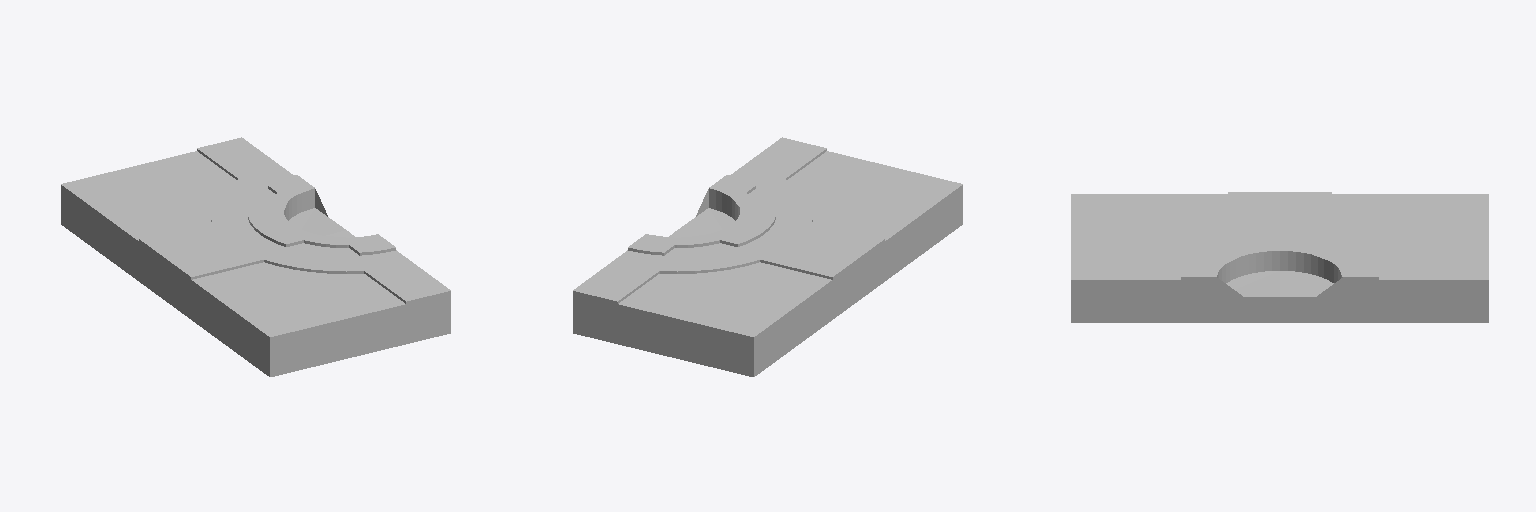
The model's file is doorsub.obj.
The picture shows the model from 3 angles: view 1: azimuth 30°, elevation 25°; view 2: azimuth 150°, elevation 25°; view 3: azimuth 270°, elevation 25°; orthographic projection.
Parts seen in each view (by area): view 1: Cube; view 2: Cube; view 3: Cube.
Boxes of the visible parts, x1=… form: Cube: x1=61, y1=137, x2=450, y2=376; Cube: x1=573, y1=137, x2=962, y2=376; Cube: x1=1071, y1=192, x2=1488, y2=322.
Size of the model in its own units: 0.2 by 0.0481 by 0.4.